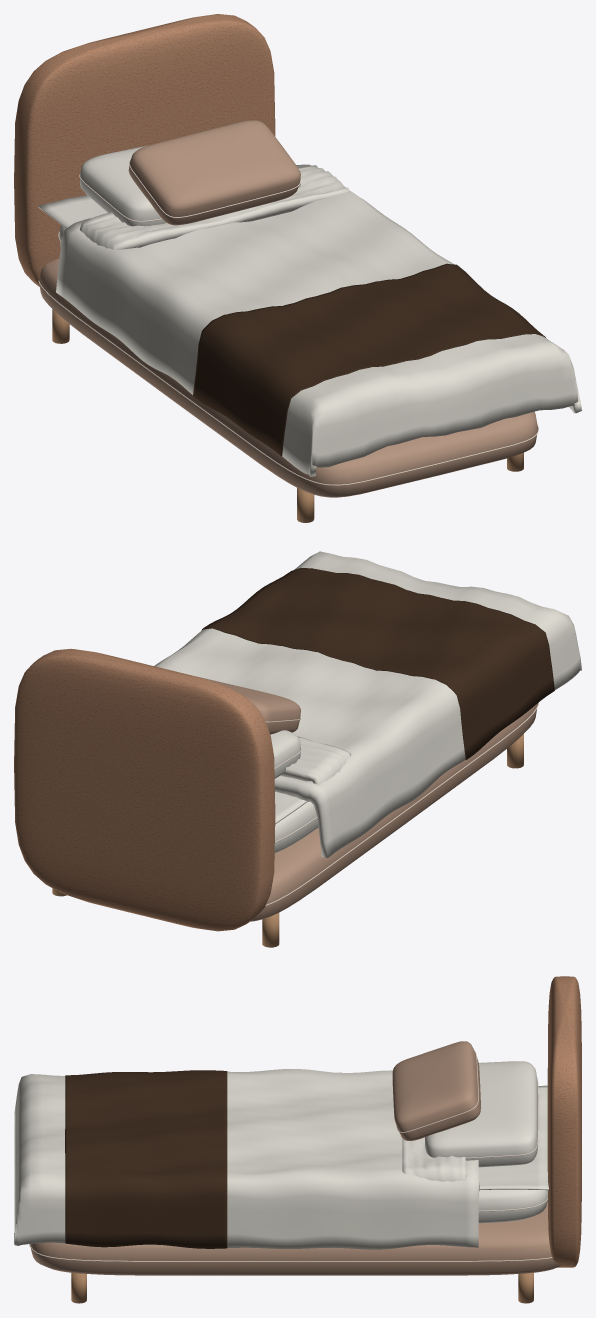
Rendered from contemporary.single_bed.gltf.
3 renders of one model, top to bottom at view 1: azimuth 30°, elevation 25°; view 2: azimuth 150°, elevation 25°; view 3: azimuth 270°, elevation 25°, orthographic. The views are drawn at different scales.
Visible parts, largest first — view 1: contemporary.single_bed.foot; view 2: contemporary.single_bed.foot; view 3: contemporary.single_bed.foot.
Boxes of the visible parts, x1=… form: contemporary.single_bed.foot: x1=14, y1=14, x2=581, y2=522; contemporary.single_bed.foot: x1=14, y1=551, x2=581, y2=947; contemporary.single_bed.foot: x1=14, y1=976, x2=581, y2=1303.
Bounding box in the file's own units: 1.09 × 1.02 × 2.16.
6 materials, 4 textured.
